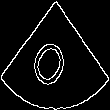O_NE: (31, 21, 79, 89)
